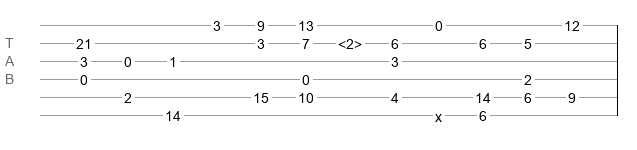0: (80, 72, 88, 82), (124, 54, 132, 64), (302, 72, 310, 82), (435, 18, 443, 28)
1: (169, 54, 177, 64)
10: (298, 90, 314, 100)
12: (564, 18, 580, 28)
13: (298, 18, 314, 28)
14: (165, 108, 181, 118), (475, 90, 491, 100)
15: (253, 90, 269, 100)
2: (124, 90, 132, 100), (524, 72, 532, 82)
21: (76, 36, 92, 46)
3: (80, 54, 88, 64), (213, 18, 221, 28), (257, 36, 265, 46), (391, 54, 399, 64)
4: (391, 90, 399, 100)
5: (524, 36, 532, 46)
6: (391, 36, 399, 46), (479, 36, 487, 46), (479, 108, 487, 118), (524, 90, 532, 100)
7: (302, 36, 310, 46)
9: (257, 18, 265, 28), (568, 90, 576, 100)
harmonic: (338, 36, 362, 46)
x: (435, 109, 442, 117)
